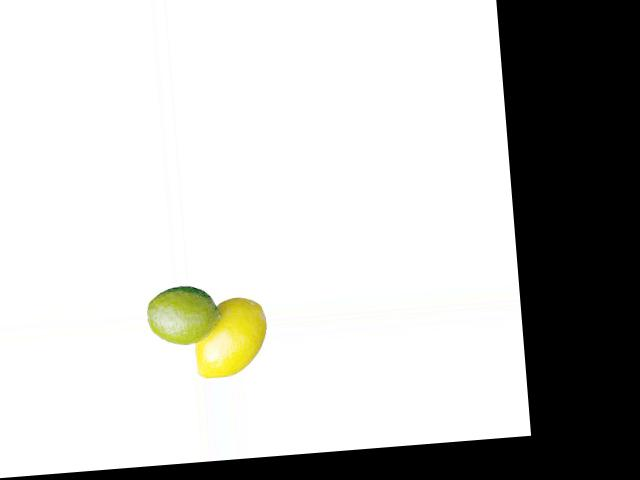lemon: (143, 278, 233, 359)
